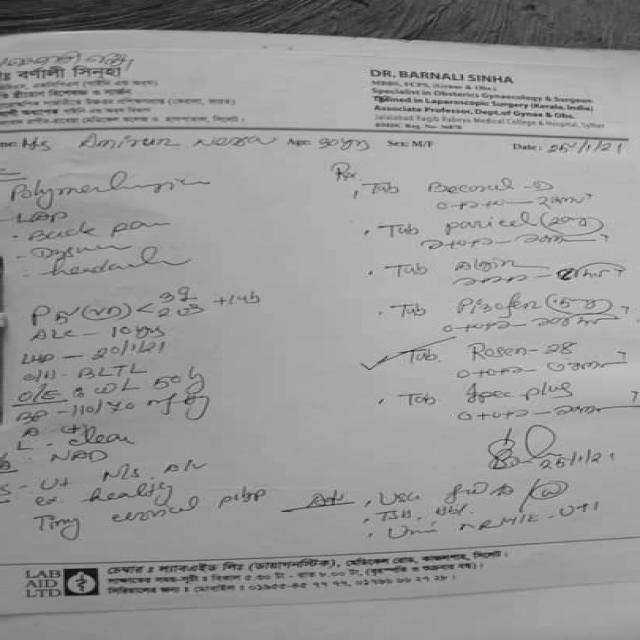Algin: (443, 253, 526, 276)
Becosules: (411, 176, 522, 196)
Ipec Plus: (455, 380, 582, 405)
Paricel: (433, 210, 542, 235)
Pizofen: (445, 291, 547, 317)
Rosen: (462, 337, 537, 362)
